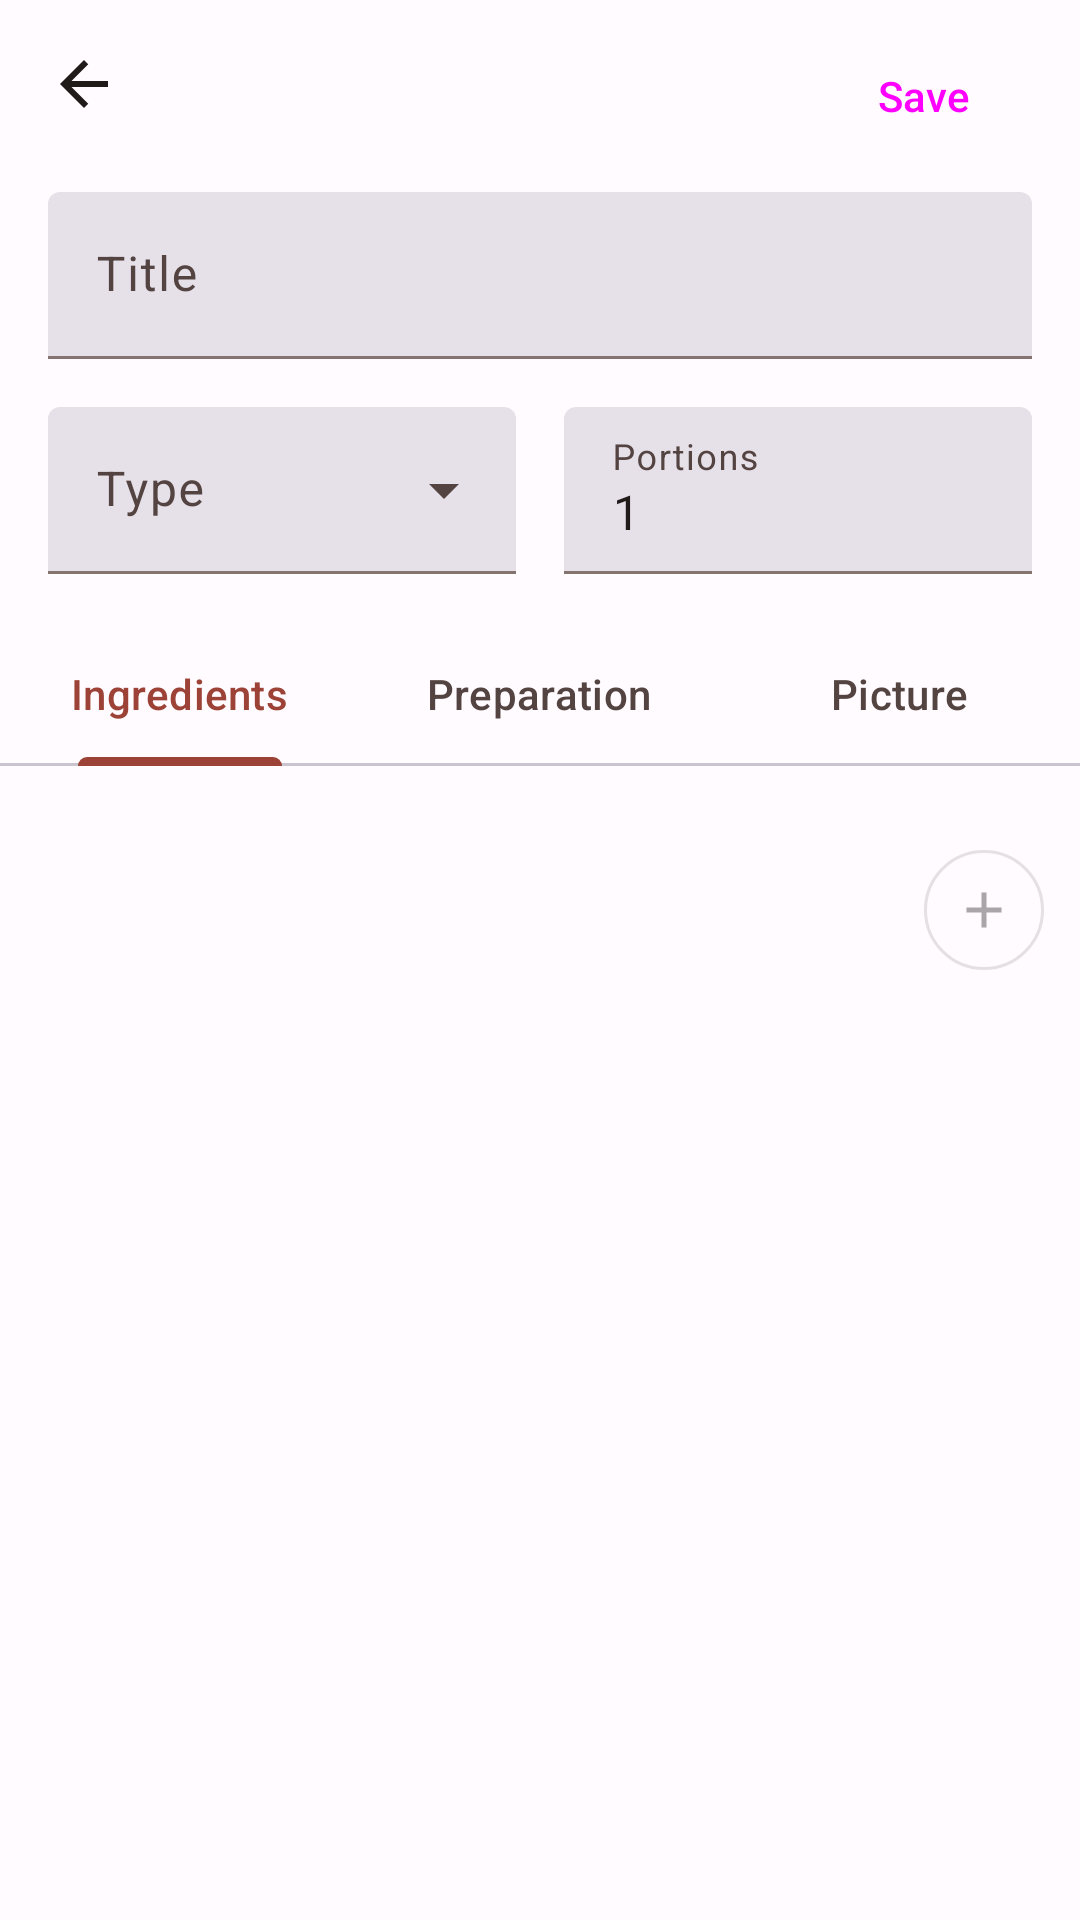

Where to tap for icons on this 1080px×1920px app screen, as point (x, y):
add: point (984, 910)
back: point (84, 84)
